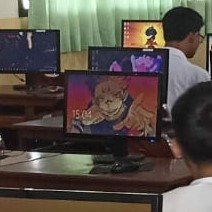monitor: (62, 70, 163, 142), (88, 46, 169, 106), (0, 29, 61, 75)
